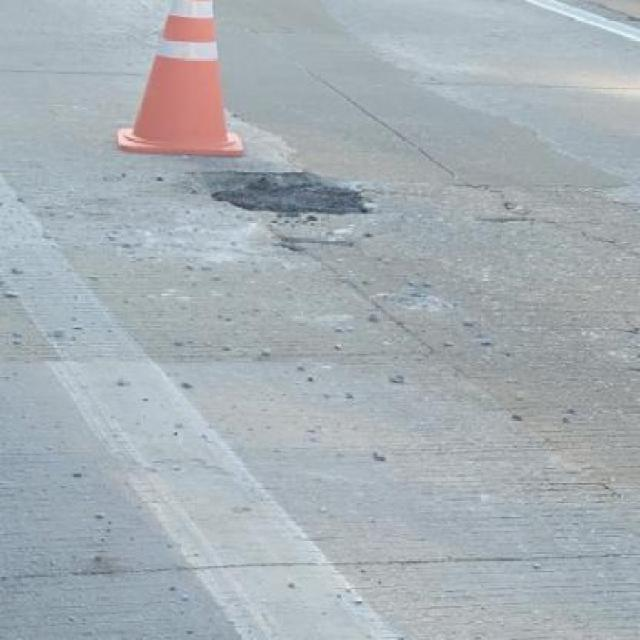Pothole: (204, 166, 384, 226)
